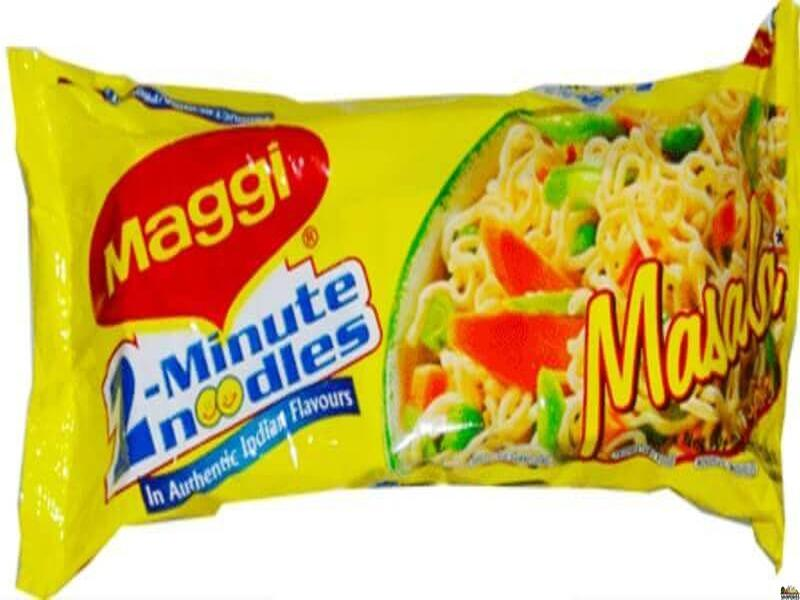maggi-family: (1, 26, 787, 544)
